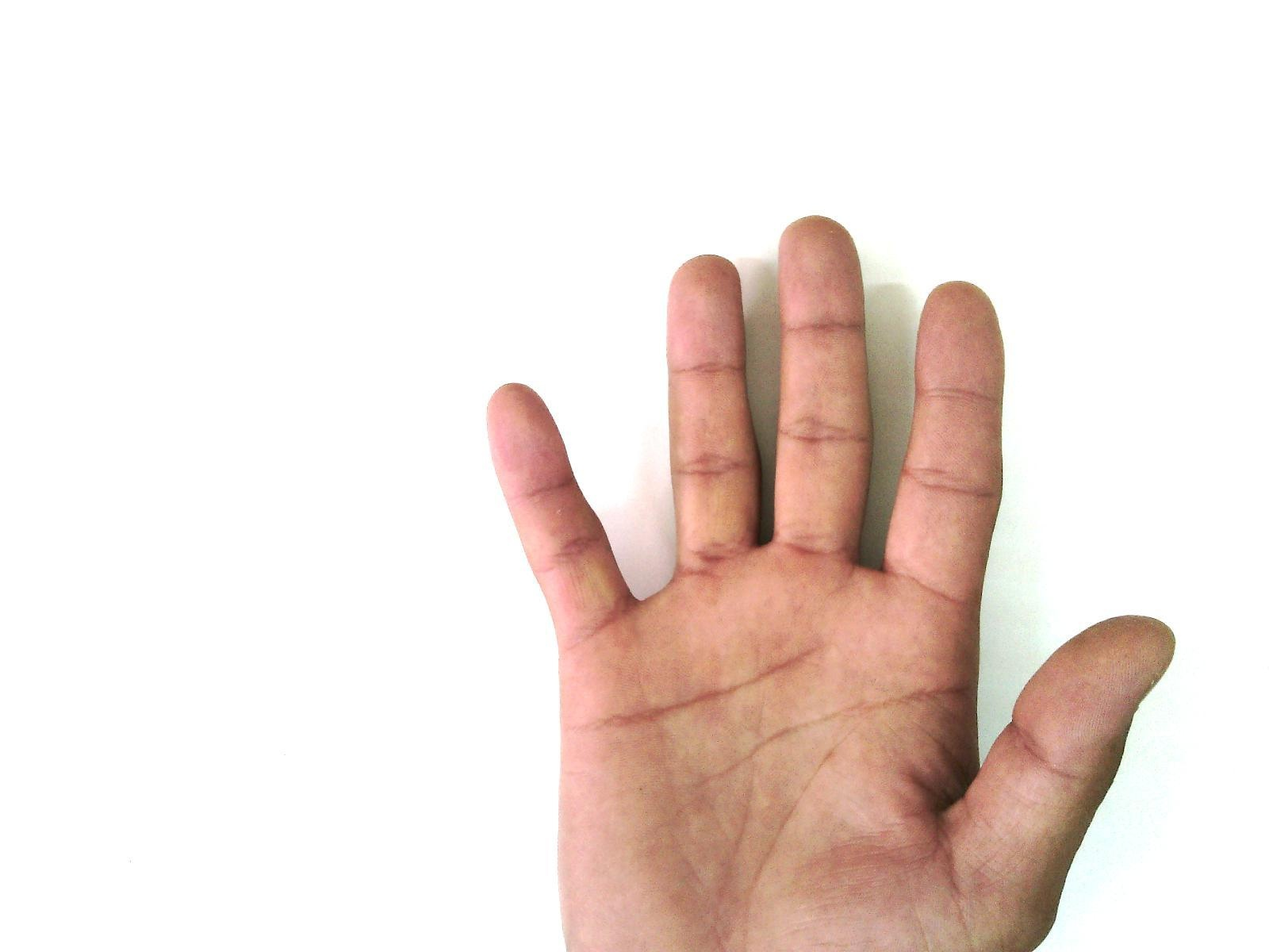open_palm: (483, 214, 1178, 951)
